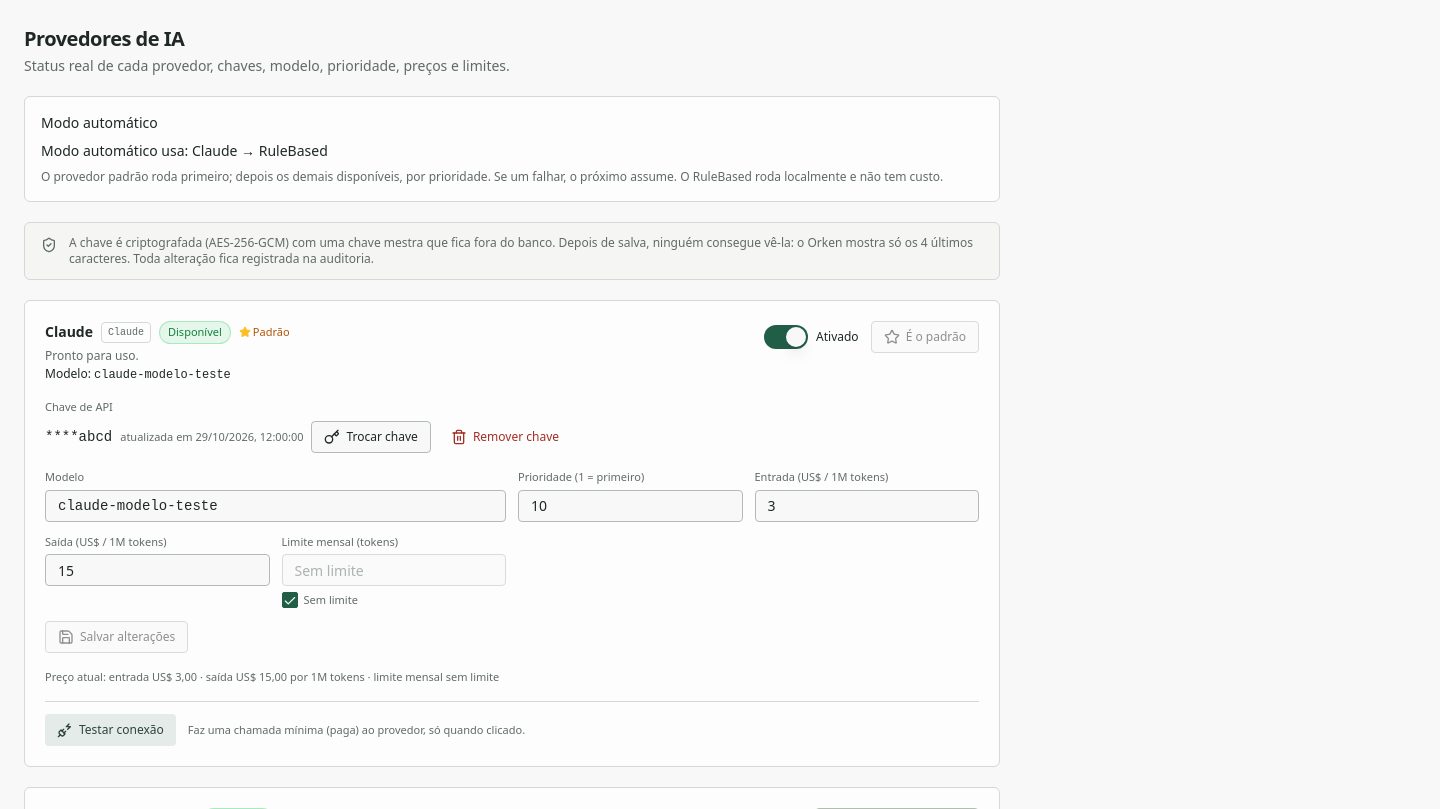
Scenario: AiProvidersPage › tests the connection and shows status, message, model and latency
Click the button "Testar conexão" at (110, 730), box [45,714,176,746]
(page scrolled)
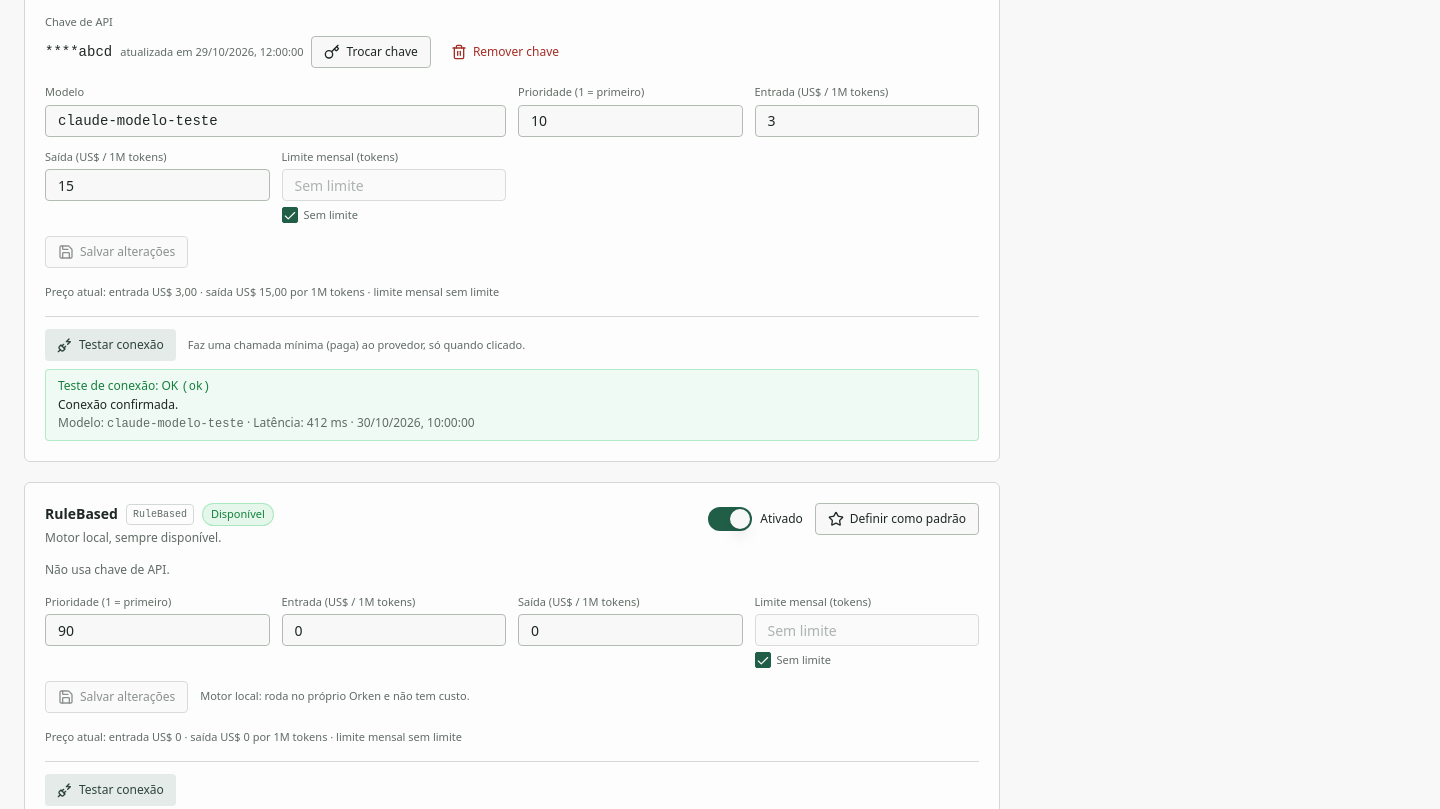
expect the message shows "Teste de conexão: OK": met, box [45,369,979,441]
expect the message shows "Conexão confirmada.": met, box [58,396,178,413]
expect the message shows "claude-modelo-teste": met, box [107,417,244,431]
